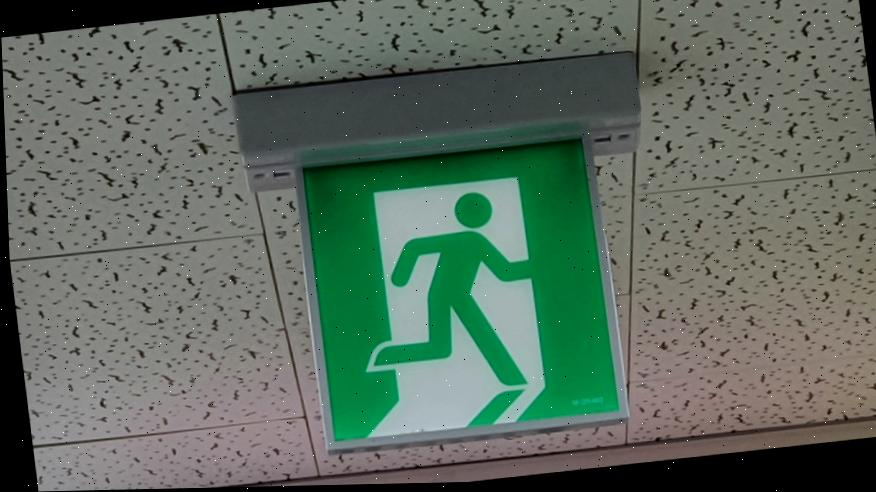emergency_exit: (295, 127, 630, 452)
